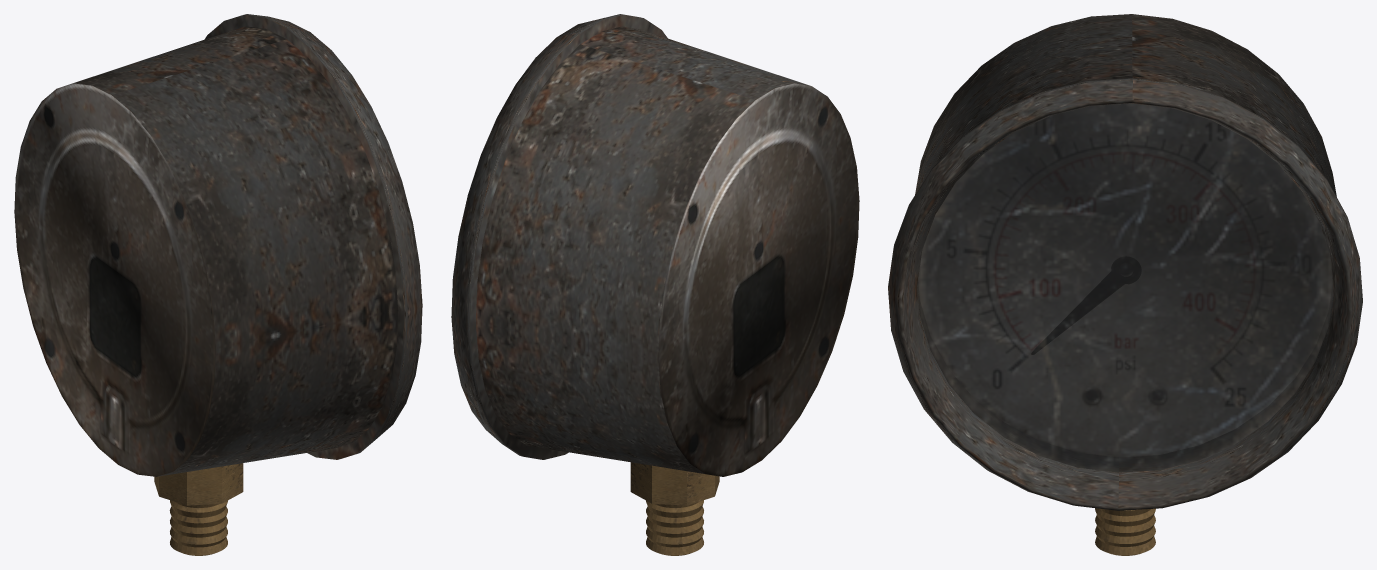
The model's file is simple_manometr.glb.
The picture shows the model from 3 angles, left to right: view 1: azimuth 30°, elevation 25°; view 2: azimuth 150°, elevation 25°; view 3: azimuth 270°, elevation 25°; orthographic projection. The views are drawn at different scales.
Parts seen in each view (by area): view 1: Cylinder.001; view 2: Cylinder.001; view 3: Cylinder.001.
Part boxes in pixels (x1,y1,x2,y2): Cylinder.001: (14,14,422,555); Cylinder.001: (451,14,859,555); Cylinder.001: (888,14,1362,555).
Bounding box in the file's own units: 1.06 × 2.5 × 2.09.
3 materials, 3 textured.
